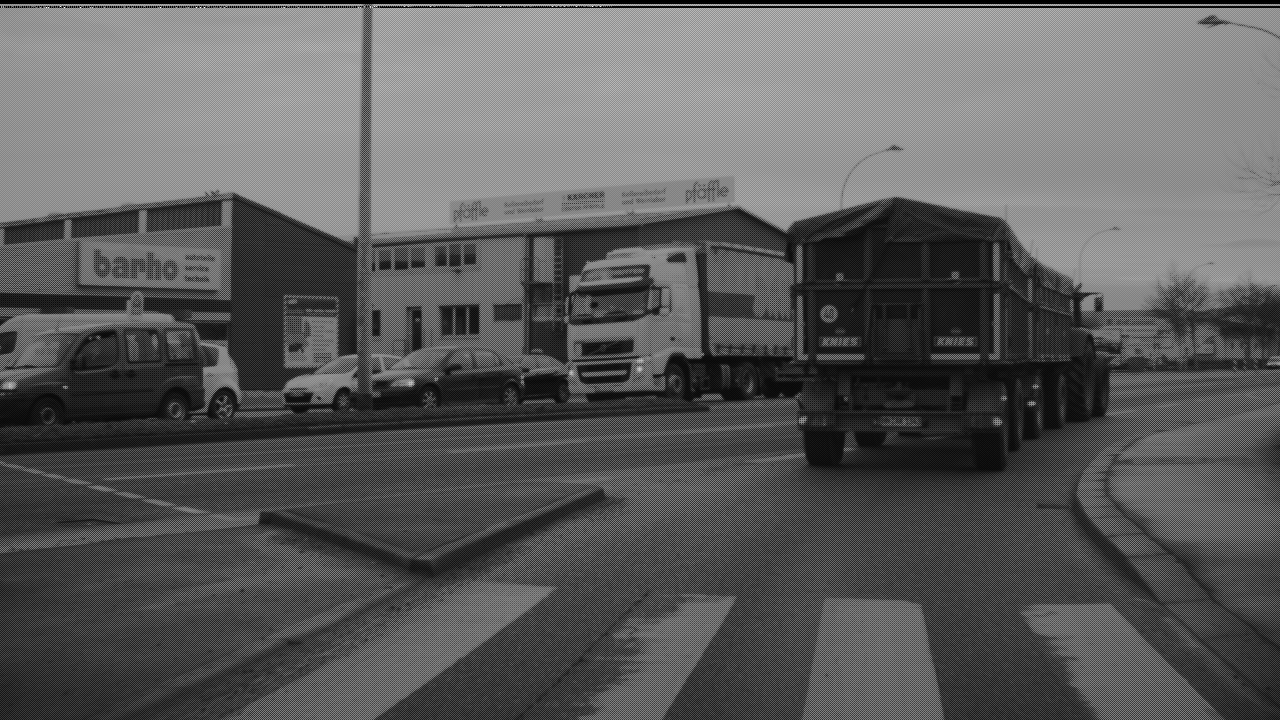pole: (355, 1, 371, 403)
